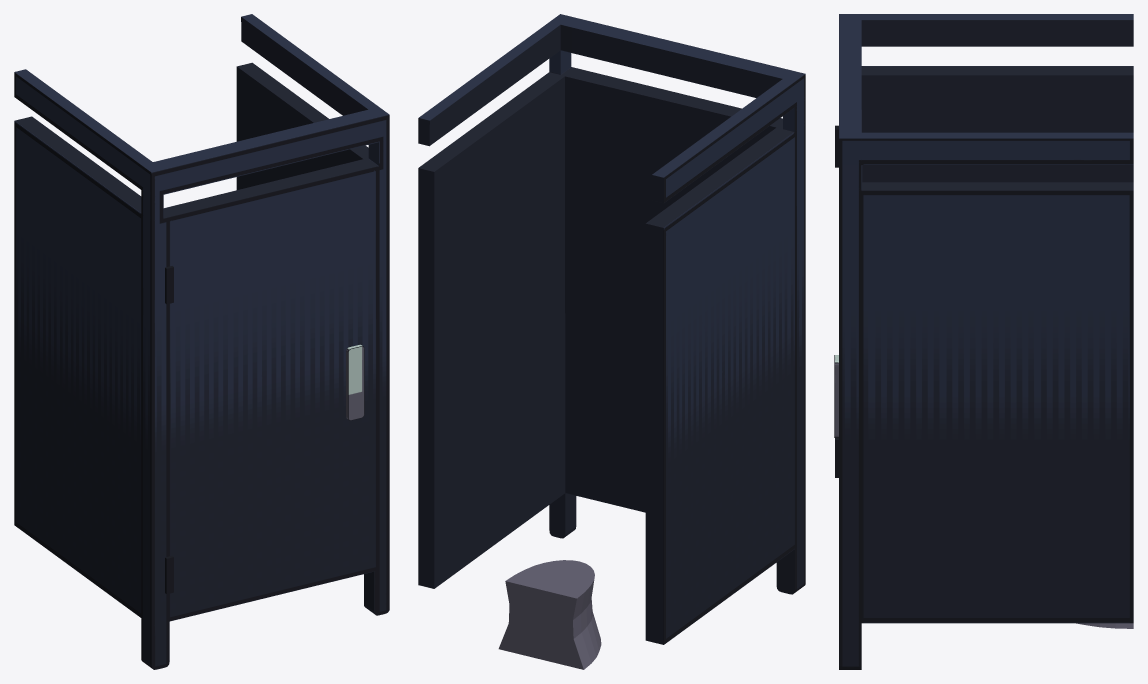
The model's file is bathroom stall.fbx.
3 views of the same model, side by side, from view 1: azimuth 30°, elevation 25°; view 2: azimuth 150°, elevation 25°; view 3: azimuth 270°, elevation 25° (orthographic). The views are drawn at different scales.
Visible parts, largest first — view 1: stall, door handle; view 2: stall, Cylinder; view 3: stall, door handle.
Part boxes in pixels (<box>): stall: <box>14,14,389,669</box>; door handle: <box>165,266,364,594</box>; stall: <box>418,14,805,644</box>; Cylinder: <box>498,560,601,669</box>; stall: <box>839,14,1133,669</box>; door handle: <box>834,125,838,477</box>.
Size of the model in its own units: 100 by 200 by 102.
